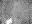person: (7, 18, 12, 23)
